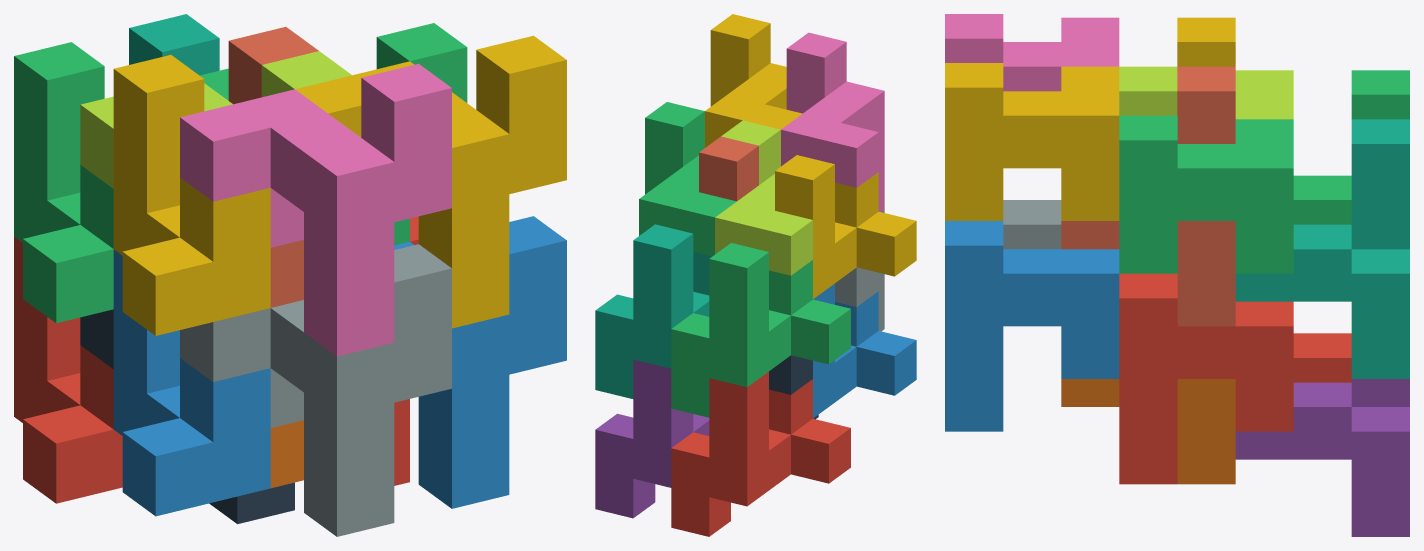
File: tiling.obj
3 renders of one model, left to right at view 1: azimuth 30°, elevation 25°; view 2: azimuth 150°, elevation 25°; view 3: azimuth 270°, elevation 25°, orthographic. The views are drawn at different scales.
Visible parts, largest first — view 1: copy_2_domain_4, copy_2_domain_2, copy_1_domain_4, copy_2_domain_8, copy_1_domain_2, copy_1_domain_3, copy_2_domain_6, copy_1_domain_1, copy_1_domain_8, copy_2_domain_3, copy_2_domain_7, copy_1_domain_7 (+3 smaller); view 2: copy_1_domain_3, copy_1_domain_1, copy_1_domain_7, copy_2_domain_4, copy_1_domain_4, copy_1_domain_5, copy_2_domain_7, copy_2_domain_8, copy_2_domain_3, copy_1_domain_2, copy_1_domain_8, copy_2_domain_2 (+1 smaller); view 3: copy_2_domain_6, copy_2_domain_5, copy_2_domain_7, copy_2_domain_8, copy_1_domain_7, copy_1_domain_5, copy_1_domain_8, copy_2_domain_4, copy_1_domain_6, copy_1_domain_3, copy_2_domain_3, copy_1_domain_1 (+2 smaller).
Part boxes in pixels (box(x1,y1,x2,y2)): copy_2_domain_4: box(180, 63, 451, 356); copy_2_domain_2: box(180, 244, 451, 536); copy_1_domain_4: box(113, 55, 270, 335); copy_2_domain_8: box(295, 35, 566, 328); copy_1_domain_2: box(113, 249, 270, 516); copy_1_domain_3: box(14, 42, 113, 323); copy_2_domain_6: box(394, 216, 566, 508); copy_1_domain_1: box(14, 236, 122, 503); copy_1_domain_8: box(228, 27, 318, 307); copy_2_domain_3: box(80, 51, 351, 188); copy_2_domain_7: box(200, 23, 467, 245); copy_1_domain_7: box(129, 14, 219, 75); copy_1_domain_3: box(671, 243, 850, 417); copy_1_domain_1: box(671, 371, 850, 536); copy_1_domain_7: box(595, 224, 711, 398); copy_2_domain_4: box(781, 32, 884, 212); copy_1_domain_4: box(775, 155, 916, 298); copy_1_domain_5: box(595, 359, 709, 518); copy_2_domain_7: box(639, 102, 736, 256); copy_2_domain_8: box(705, 14, 802, 147); copy_2_domain_3: box(715, 120, 812, 275); copy_1_domain_2: box(813, 283, 916, 418); copy_1_domain_8: box(699, 136, 758, 201); copy_2_domain_2: box(835, 210, 884, 331); copy_2_domain_6: box(945, 221, 1119, 431); copy_2_domain_5: box(1119, 273, 1293, 484); copy_2_domain_7: box(1119, 115, 1293, 273); copy_2_domain_8: box(945, 63, 1119, 220); copy_1_domain_7: box(1235, 119, 1409, 378); copy_1_domain_5: box(1235, 379, 1409, 536); copy_1_domain_8: box(1061, 66, 1235, 326); copy_2_domain_4: box(945, 14, 1119, 91); copy_1_domain_6: box(1061, 379, 1235, 484); copy_1_domain_3: box(1293, 70, 1409, 224); copy_2_domain_3: box(1119, 66, 1293, 119); copy_1_domain_1: box(1293, 333, 1351, 382).
Size of the model in its own units: 6 by 9 by 8.
